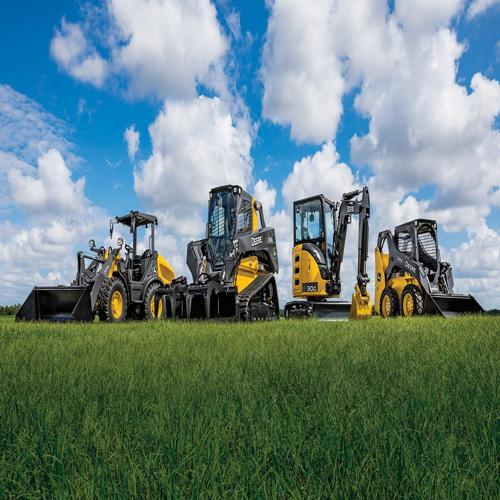con_eq: (30, 206, 169, 338), (162, 180, 281, 320), (281, 183, 372, 318), (373, 217, 486, 313)
